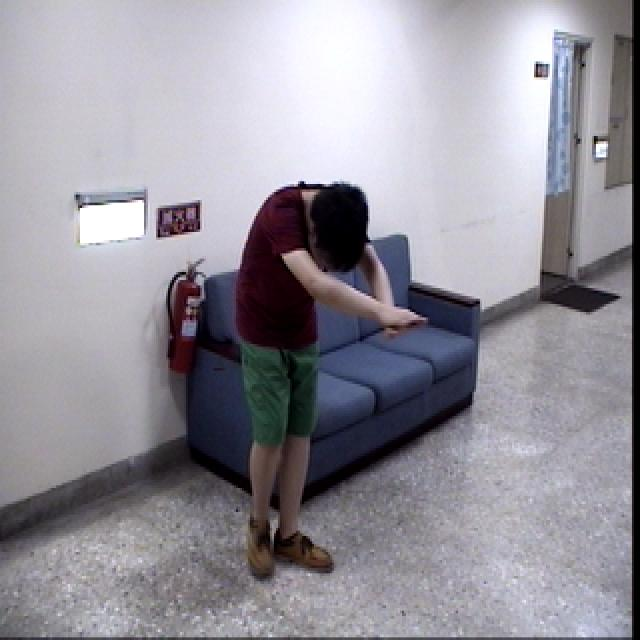bend: (230, 175, 433, 590)
